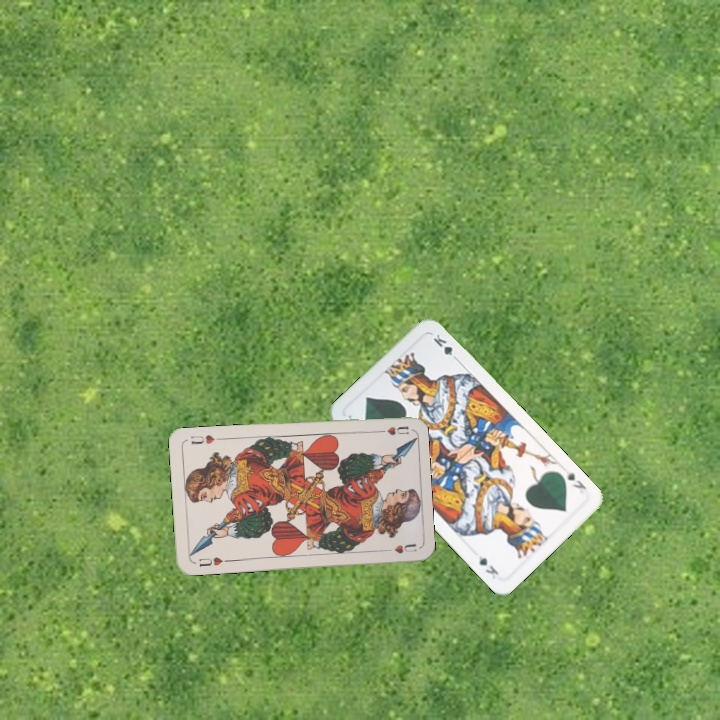GK: (562, 466, 589, 492)
HU: (371, 422, 411, 438), (195, 553, 225, 569)
